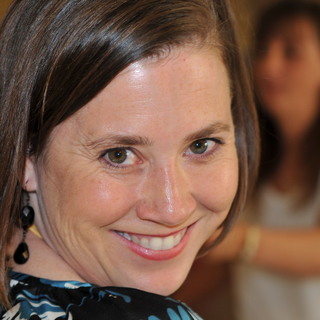eye: (95, 143, 146, 172), (176, 135, 225, 161)
